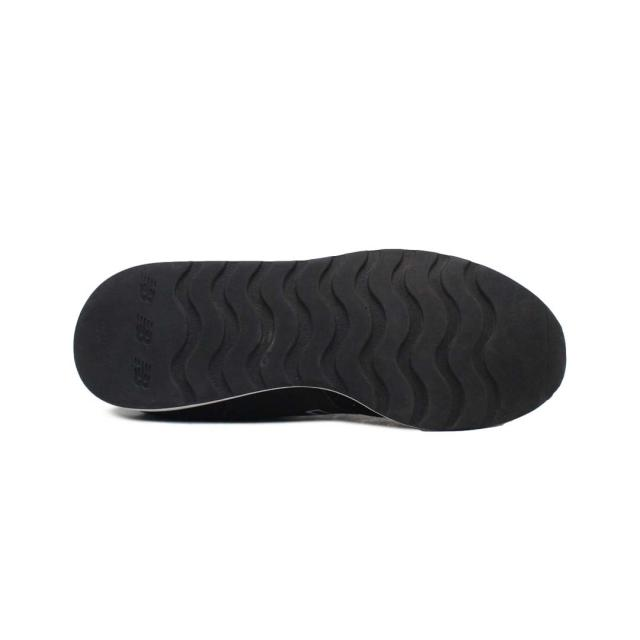outersole: (74, 245, 566, 432)
